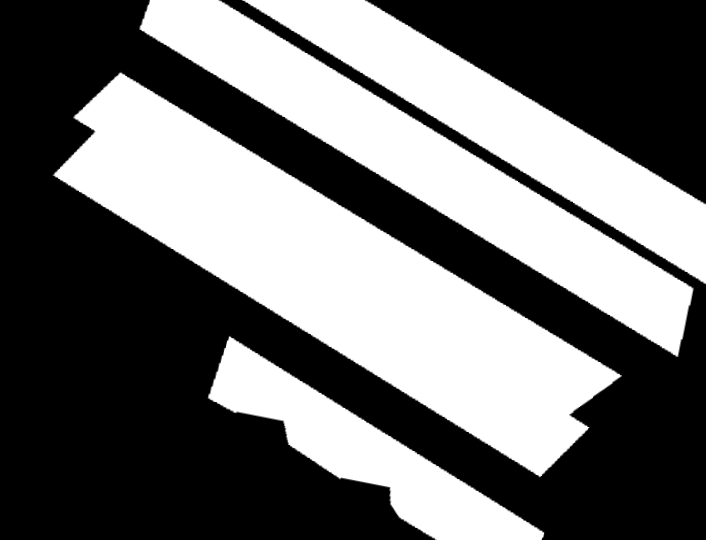parkingspot: (53, 73, 622, 477), (140, 0, 693, 357), (243, 0, 706, 284), (208, 336, 544, 540)
